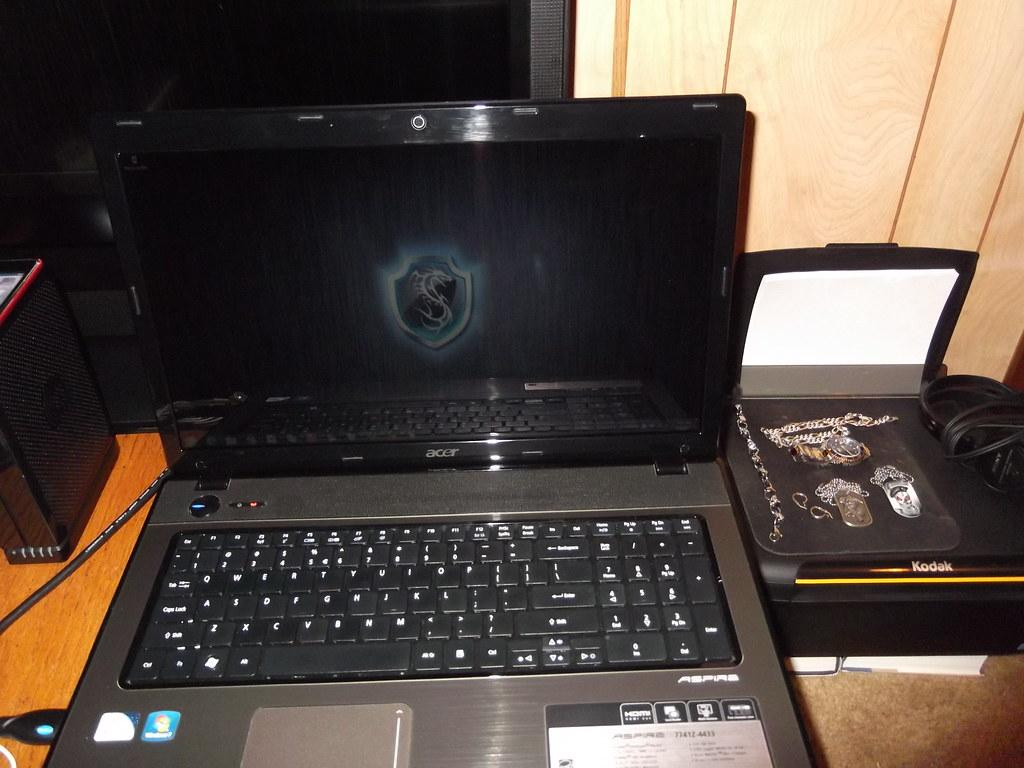computer: (45, 93, 816, 767)
